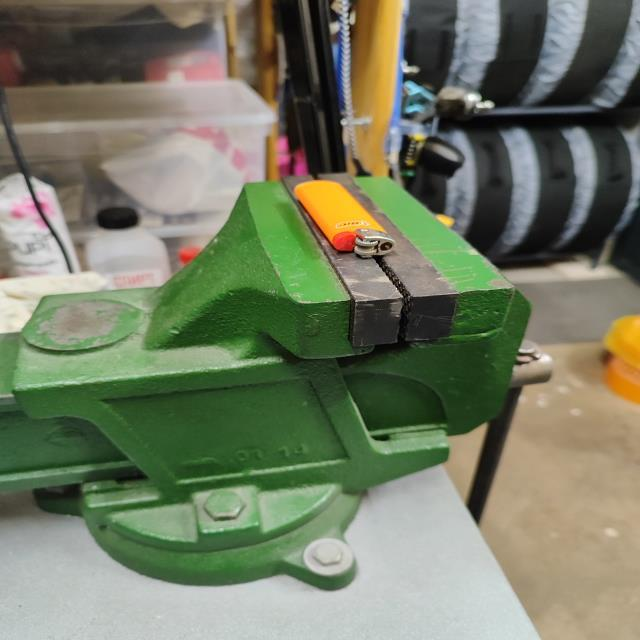lighter: (294, 180, 398, 255)
